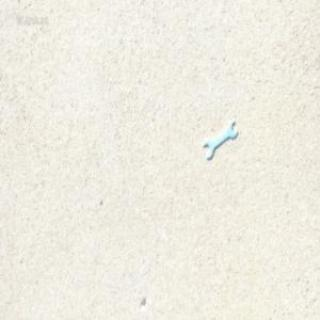Wrenchtrack_idkeyframe: (203, 120, 236, 158)
